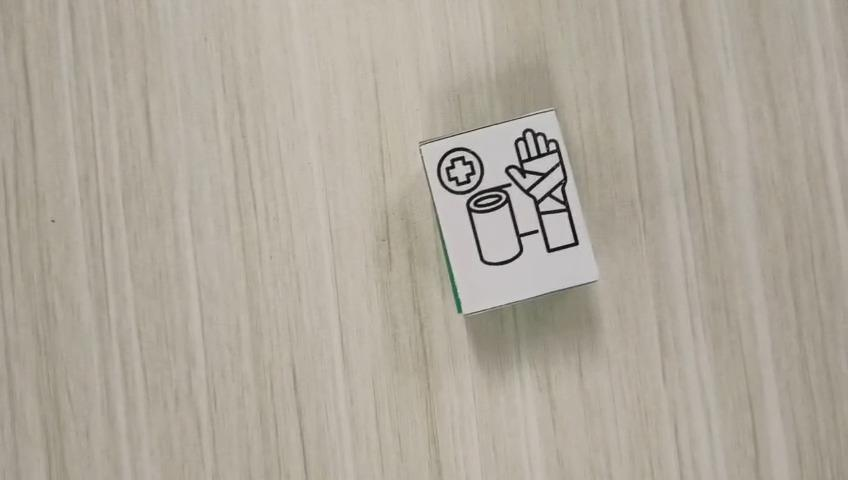Bandages: (418, 107, 599, 316)
